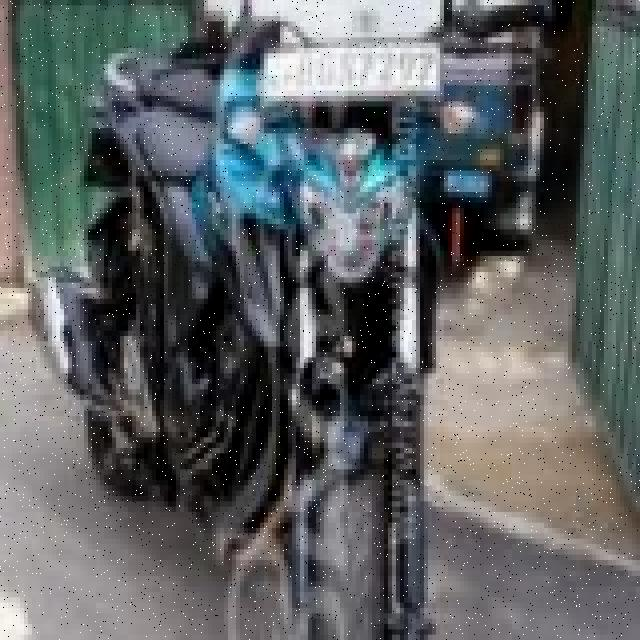motorbike: (50, 36, 452, 640)
